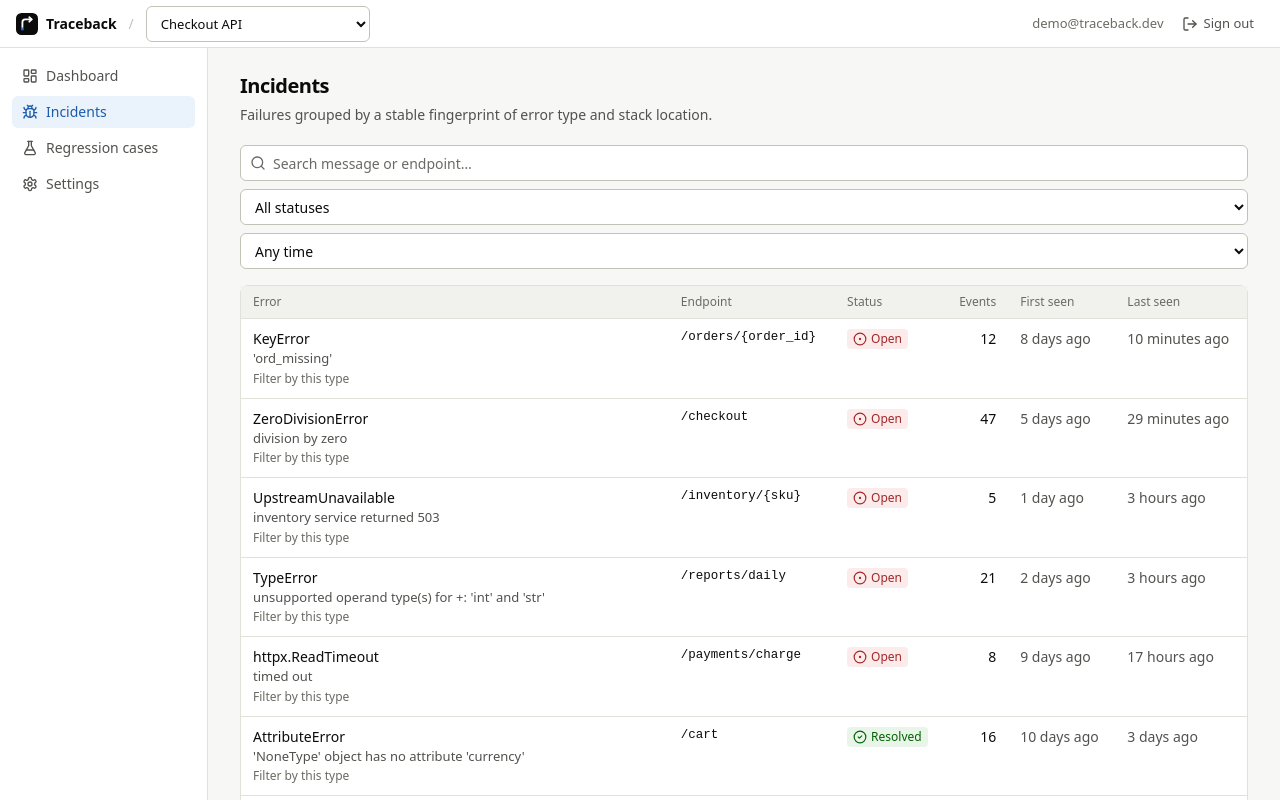
it: incident explorer › shows a dedicated empty state when filters match nothing
Type "no-such-thing" into the search field named "Search incidents by message or endpoint".
click(744, 163); type("no-such-thing")  # box x1=240 y1=145 x2=1248 y2=181
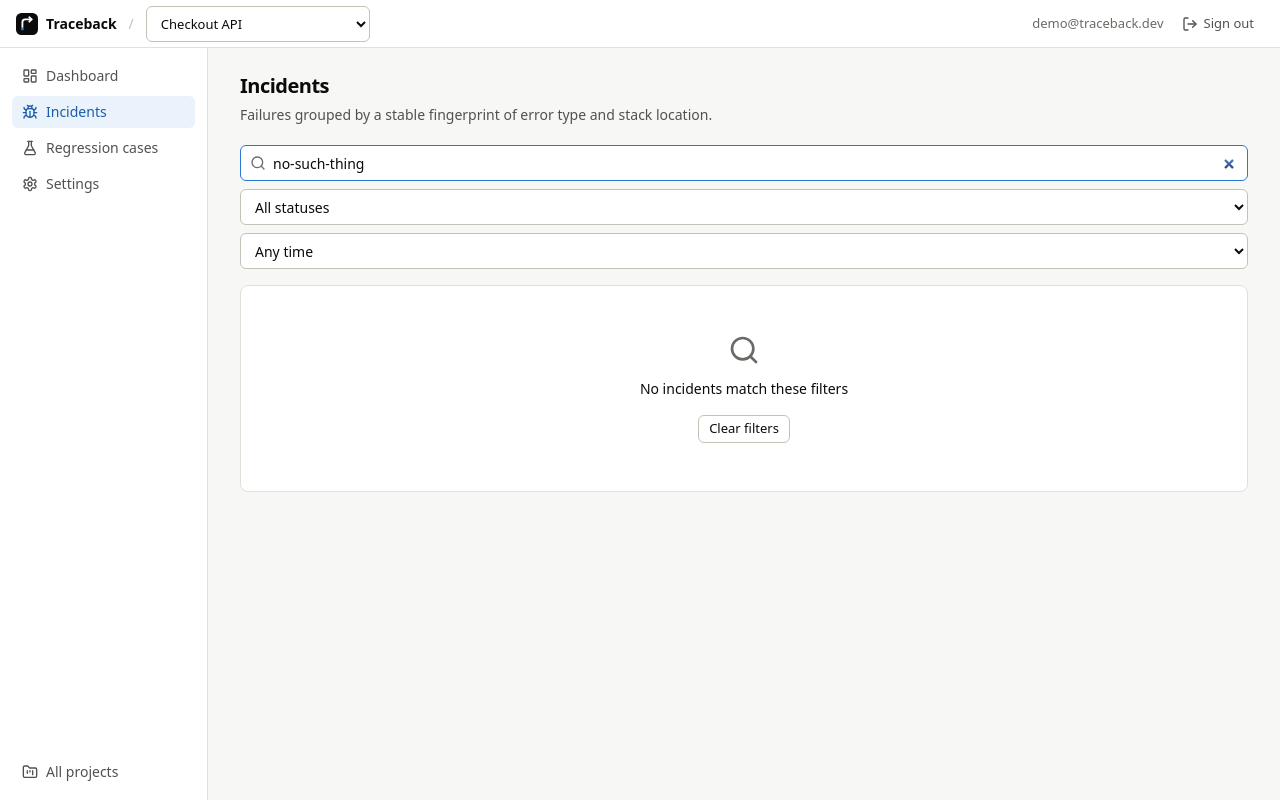
Expected: the text "No incidents match these filters" is shown, x1=640 y1=378 x2=848 y2=399
